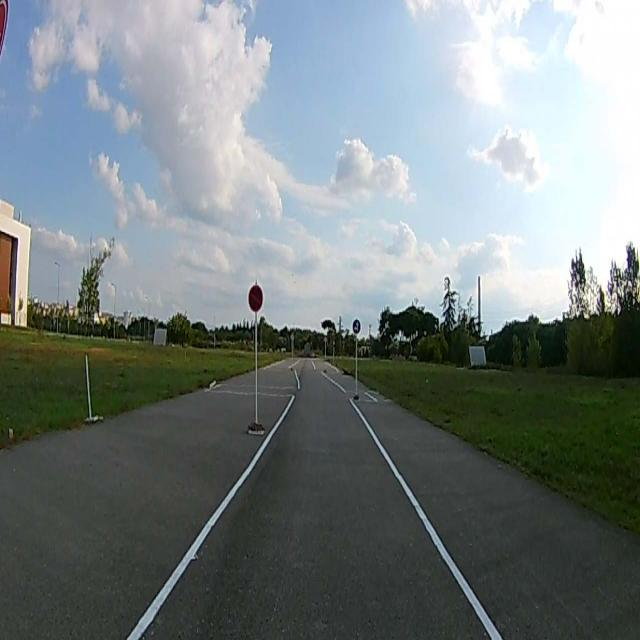parkyasak: (247, 284, 263, 313)
